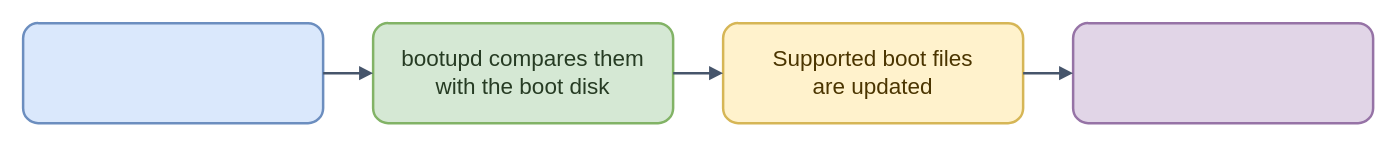
The diagram is 1395 pixels wide and 145 high, and some of its shapes have lost their labels. The centre of each missing label's shape, as x and y in pixels:
"The next start uses the disk contents" belongs at [1222,72].
"The OS image supplies boot files" belongs at [172,72].
